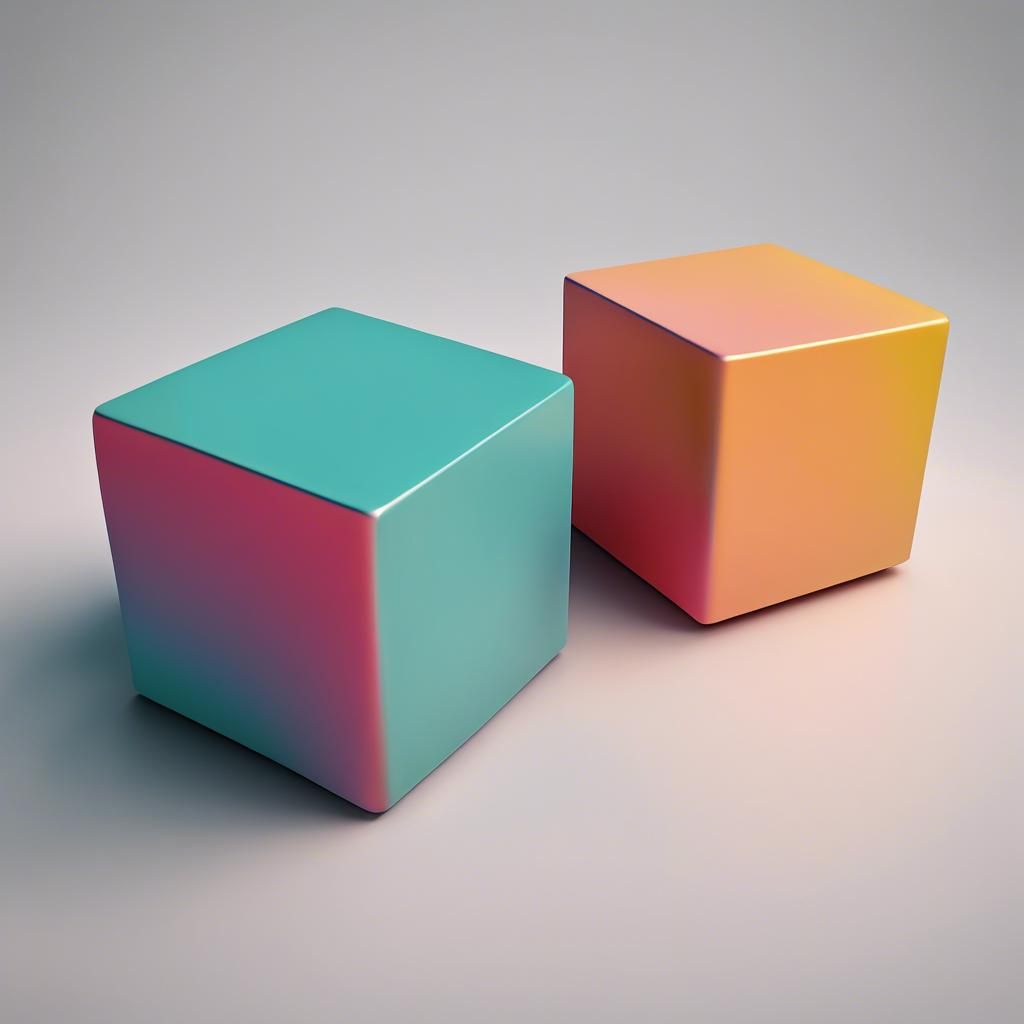cube: (91, 304, 574, 814), (561, 240, 950, 626)
